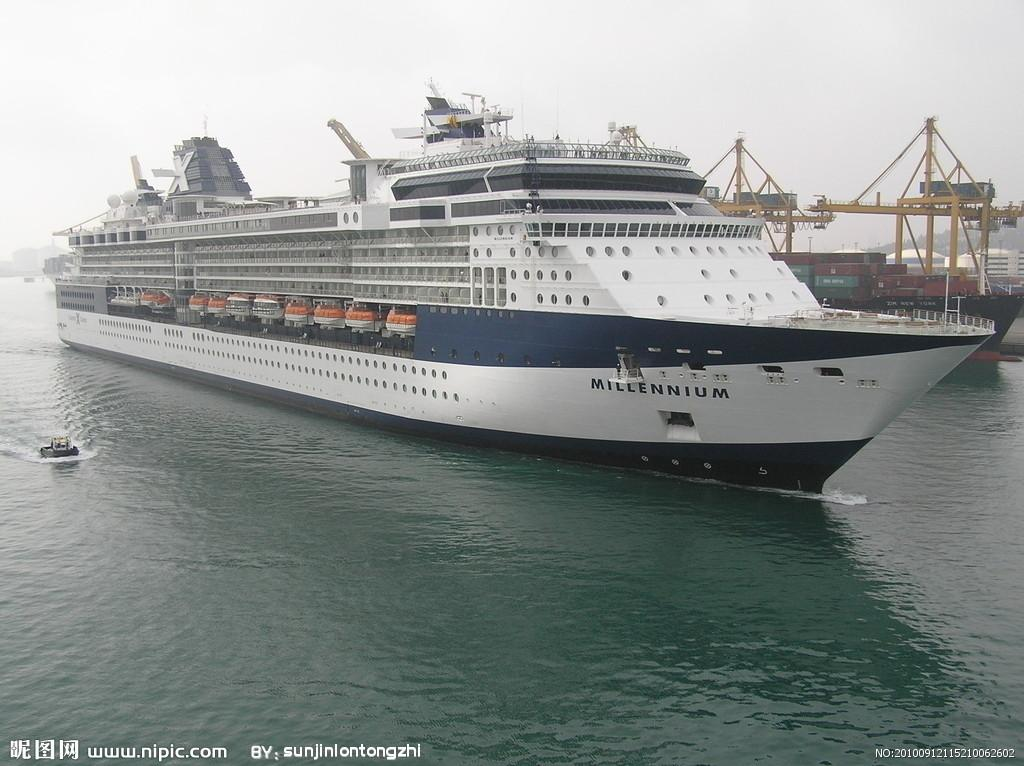youlun: (49, 82, 988, 495)
